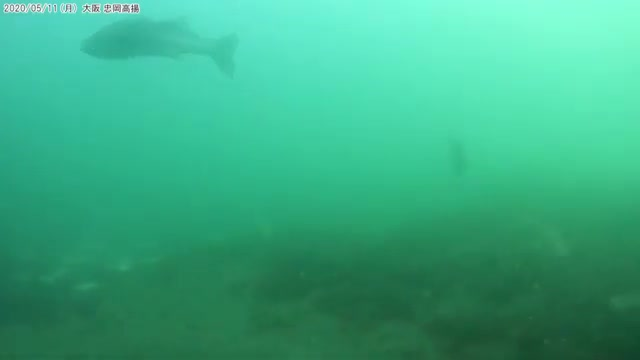smallfish: (72, 18, 251, 91)
